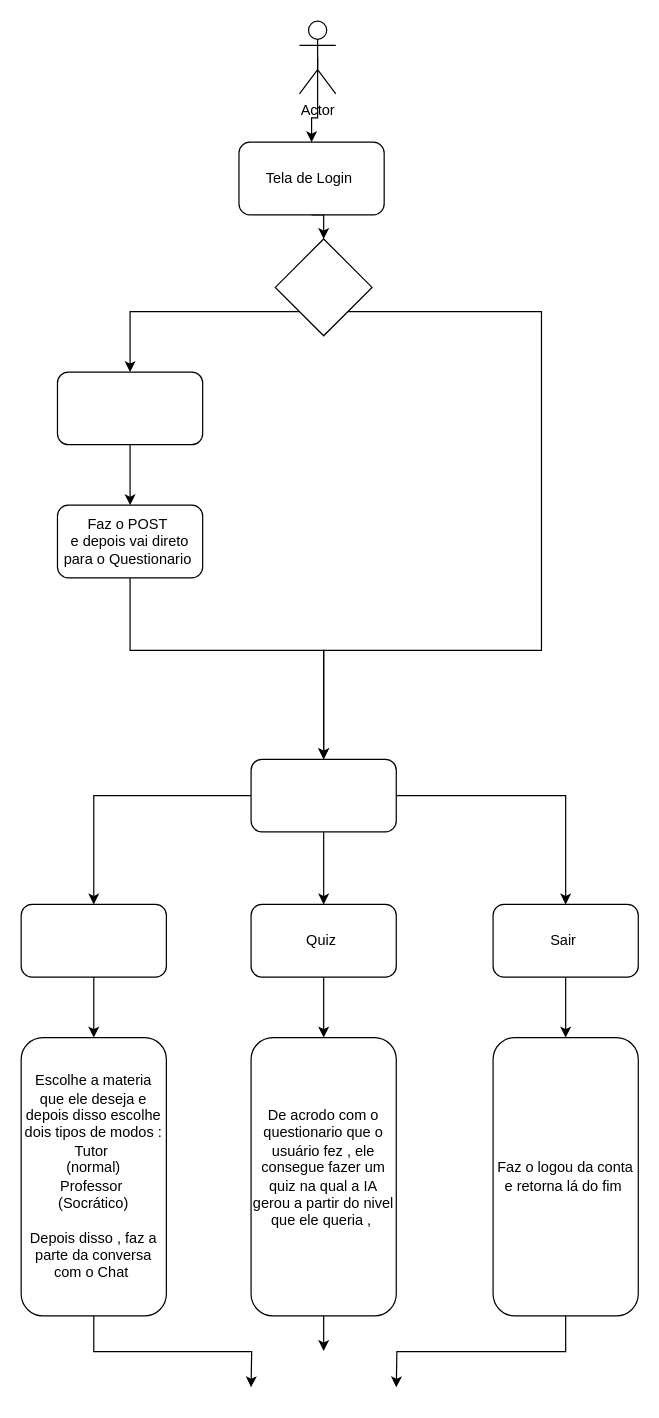
Some shapes in this 659 by 1418 pixel diagram are drawn without their labels. Each missing label, with the centre of its shape:
Chat Tutor: (93,940)
Se tiver um usuário: (323,287)
Vai direto para o dashboard: (323,795)
Vai para o SigUp Pages: (129,408)
